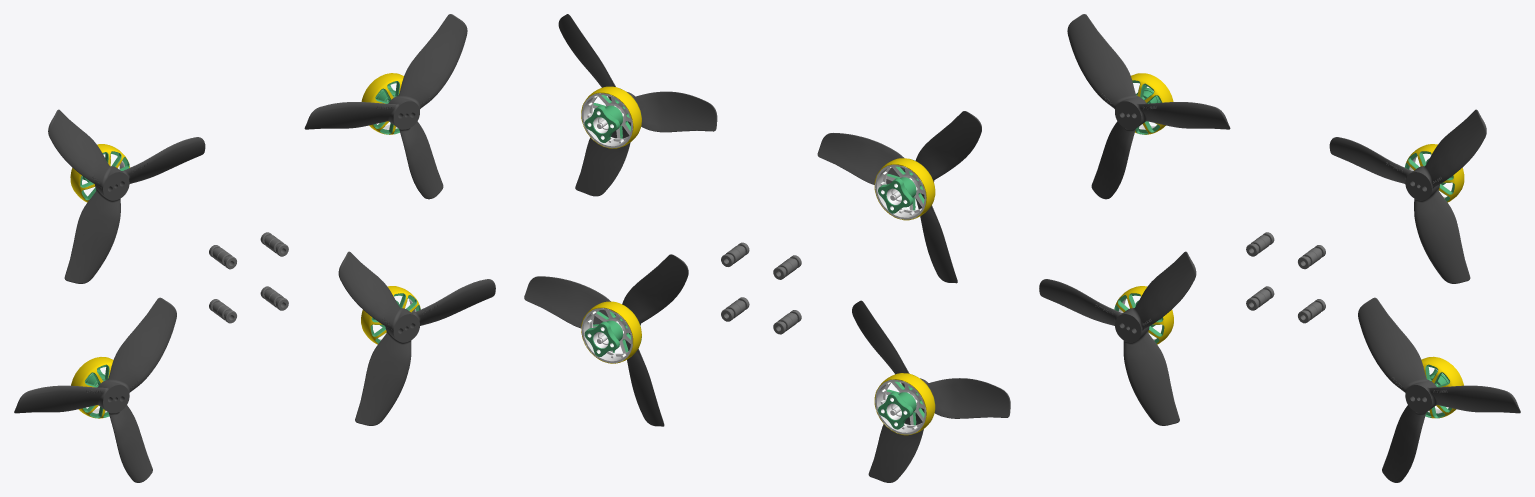
Rendered from drive.glb.
3 renders of one model, left to right at view 1: azimuth 30°, elevation 25°; view 2: azimuth 150°, elevation 25°; view 3: azimuth 330°, elevation 25°, orthographic.
Visible parts, largest first — view 1: occurrence of 1 (×2), occurrence of 2 (×2), Admi781882A2t5ac (×4); view 2: occurrence of 1 (×2), occurrence of 2 (×2), Admi781882A2t5ac (×12); view 3: occurrence of 2 (×2), occurrence of 1 (×2), Admi781882A2t5ac (×4).
Part boxes in pixels (x1=…): occurrence of 1 (×2): x1=48, y1=109, x2=495, y2=425; occurrence of 2 (×2): x1=14, y1=14, x2=467, y2=482; Admi781882A2t5ac (×4): x1=70, y1=73, x2=420, y2=418; occurrence of 1 (×2): x1=524, y1=111, x2=981, y2=426; occurrence of 2 (×2): x1=558, y1=14, x2=1010, y2=482; Admi781882A2t5ac (×12): x1=581, y1=86, x2=935, y2=435; occurrence of 2 (×2): x1=1039, y1=109, x2=1486, y2=425; occurrence of 1 (×2): x1=1067, y1=14, x2=1520, y2=482; Admi781882A2t5ac (×4): x1=1114, y1=73, x2=1464, y2=418.
Size of the model in its own units: 0.1907 by 0.1478 by 0.0204.
